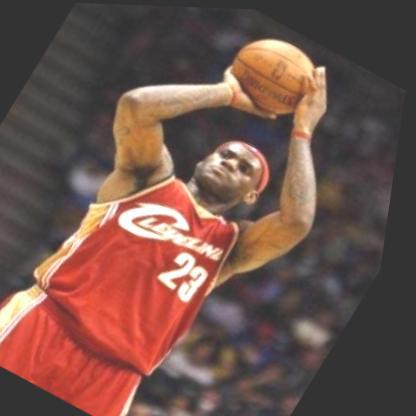basketball: (205, 16, 346, 139)
